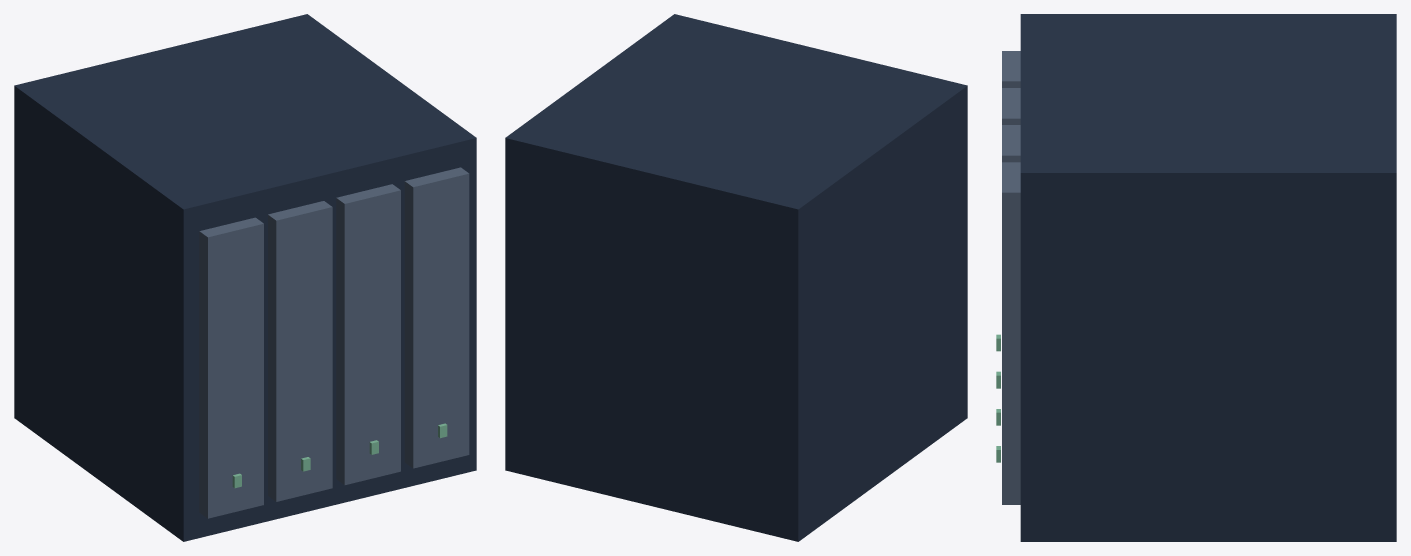
Rendered from officeNas.glb.
The picture shows the model from 3 angles, left to right: view 1: azimuth 30°, elevation 25°; view 2: azimuth 150°, elevation 25°; view 3: azimuth 270°, elevation 25°; orthographic projection. The views are drawn at different scales.
Bounding box in the file's own units: 0.24 × 0.26 × 0.2555.
